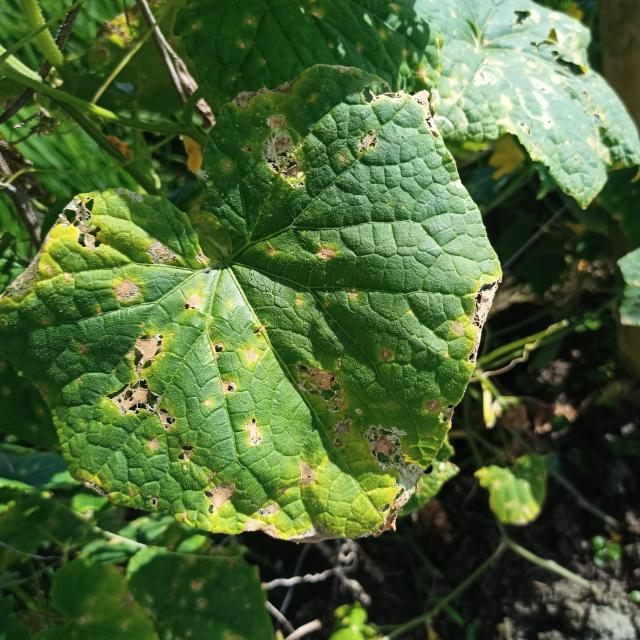disease_cucumber: (15, 86, 472, 538)
